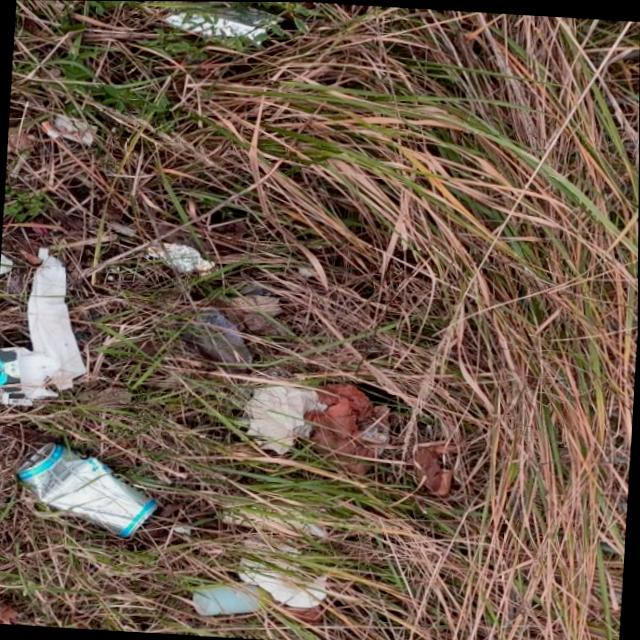Can-Metal: (12, 438, 165, 541)
Paper: (236, 510, 336, 609), (24, 252, 97, 381), (238, 370, 334, 458), (0, 342, 64, 409)
Plastic: (144, 236, 220, 278)
